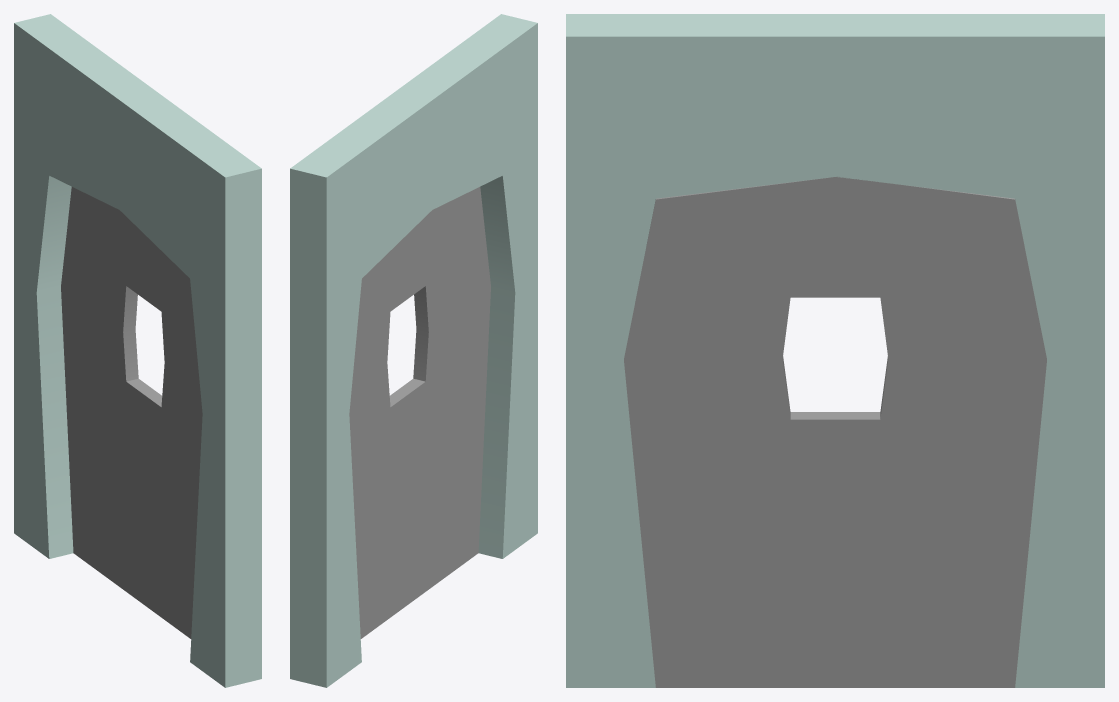
The model's file is Door.fbx.
3 views of the same model, side by side, from view 1: azimuth 30°, elevation 25°; view 2: azimuth 150°, elevation 25°; view 3: azimuth 270°, elevation 25° (orthographic). The views are drawn at different scales.
Parts seen in each view (by area): view 1: polySurface74, polySurface73; view 2: polySurface74, polySurface73; view 3: polySurface73, polySurface74.
Boxes of the visible parts, x1,y1,x2,y2 form: polySurface74: [14, 14, 261, 687]; polySurface73: [61, 187, 202, 638]; polySurface74: [290, 14, 537, 687]; polySurface73: [349, 187, 490, 638]; polySurface73: [624, 176, 1046, 687]; polySurface74: [566, 14, 1104, 687].
Size of the model in its own units: 0.3006 by 4 by 3.
